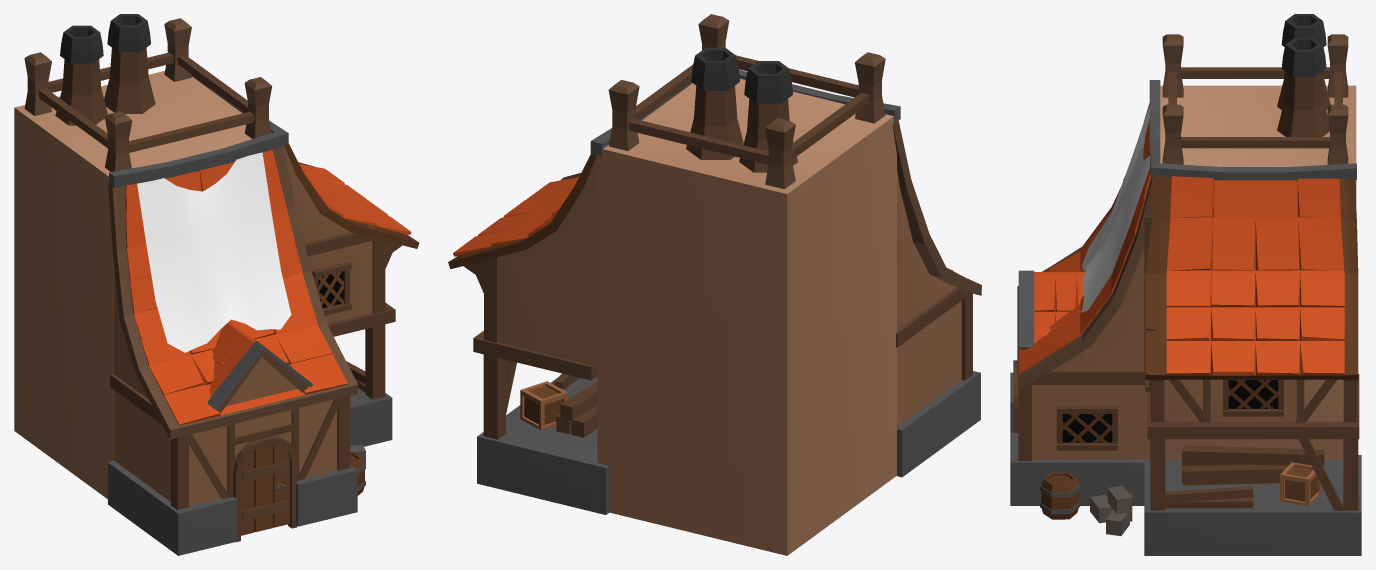
The model's file is Town Hall Level 7.glb.
3 renders of one model, left to right at view 1: azimuth 30°, elevation 25°; view 2: azimuth 150°, elevation 25°; view 3: azimuth 270°, elevation 25°, orthographic. The views are drawn at different scales.
Parts seen in each view (by area): view 1: Town Hall Level 7 Base, Flag.007, Door.007; view 2: Town Hall Level 7 Base; view 3: Town Hall Level 7 Base, Flag.007.
Part boxes in pixels (x1,y1,x2,y2): Town Hall Level 7 Base: [14, 14, 419, 555]; Flag.007: [137, 152, 291, 352]; Door.007: [241, 444, 289, 535]; Town Hall Level 7 Base: [448, 14, 981, 555]; Town Hall Level 7 Base: [1010, 14, 1361, 555]; Flag.007: [1081, 106, 1149, 312].
Bounding box in the file's own units: 6.74 × 8.4 × 6.37.
2 materials, 2 textured.
